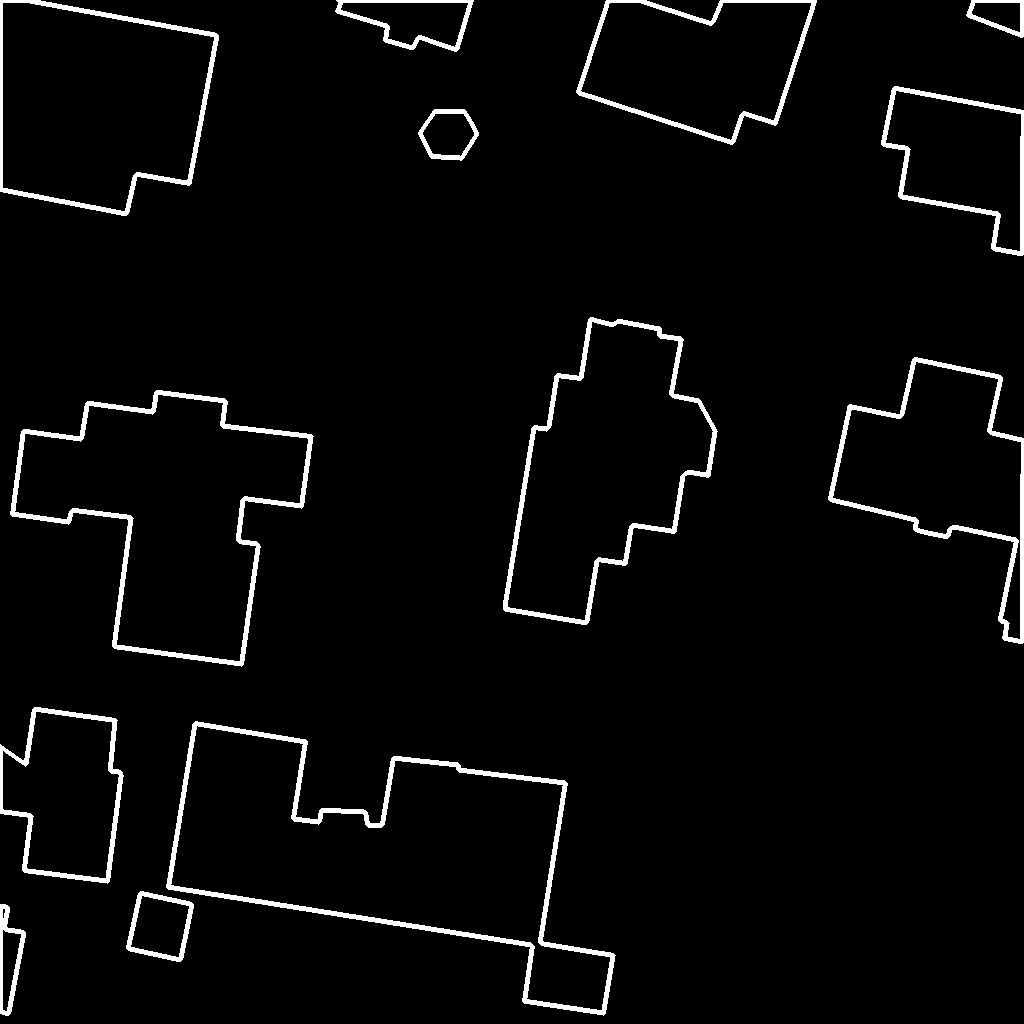building: (168, 723, 614, 1014), (12, 392, 312, 665), (505, 319, 716, 624), (830, 359, 1024, 643), (0, 0, 218, 215), (578, 0, 816, 144), (883, 88, 1024, 255), (0, 709, 122, 882), (337, 0, 473, 51), (128, 893, 193, 961), (420, 111, 478, 159), (0, 906, 25, 1015), (968, 0, 1024, 37)
